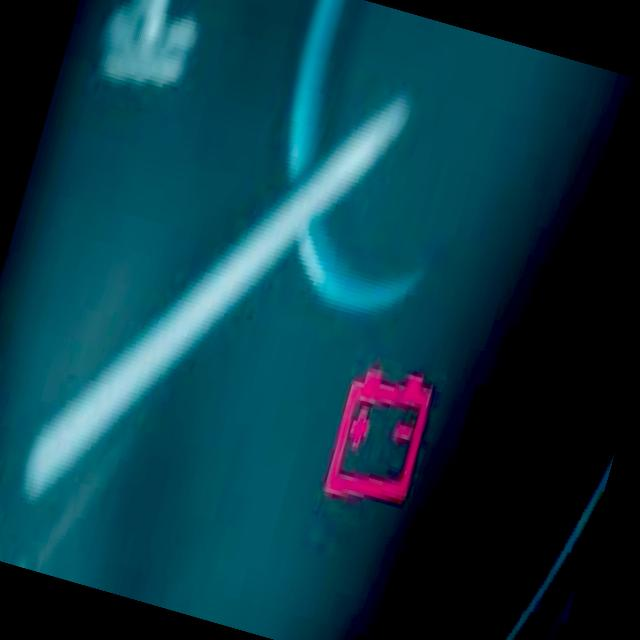kontrolka: (309, 345, 452, 530)
